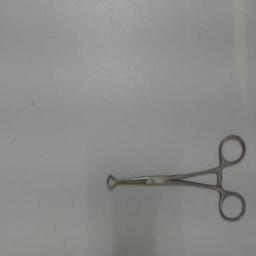Babcock Tissue Forceps: (105, 130, 249, 226)
